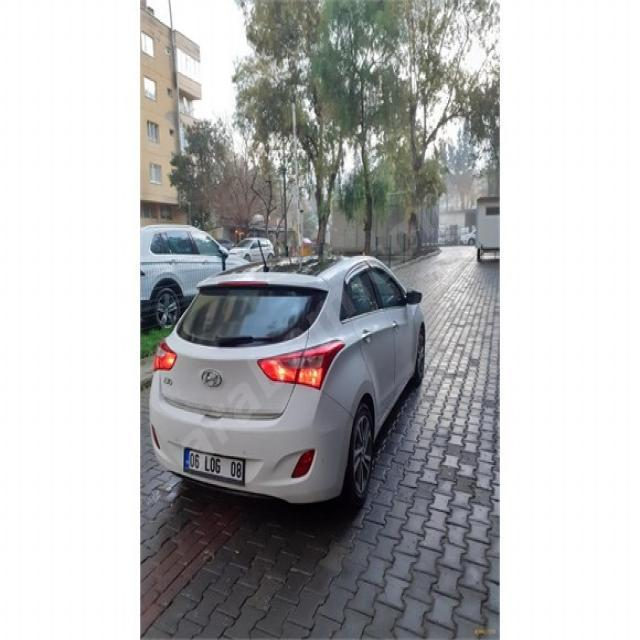plate: (182, 445, 248, 486)
